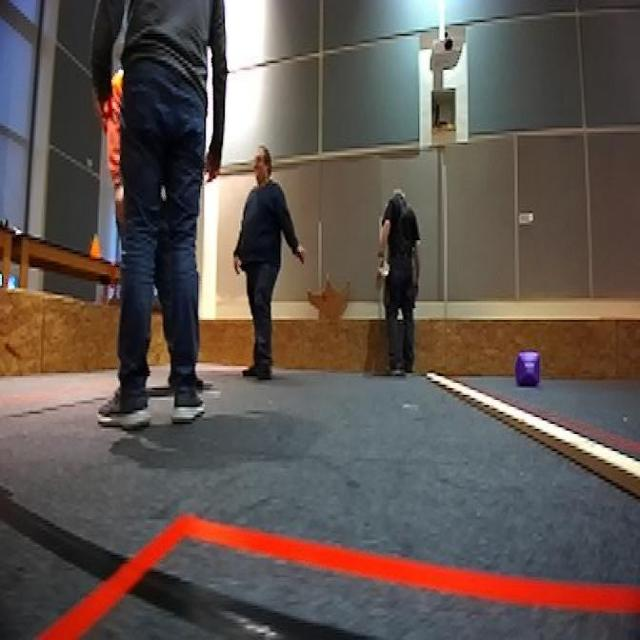frc_cube: (516, 351, 543, 393)
